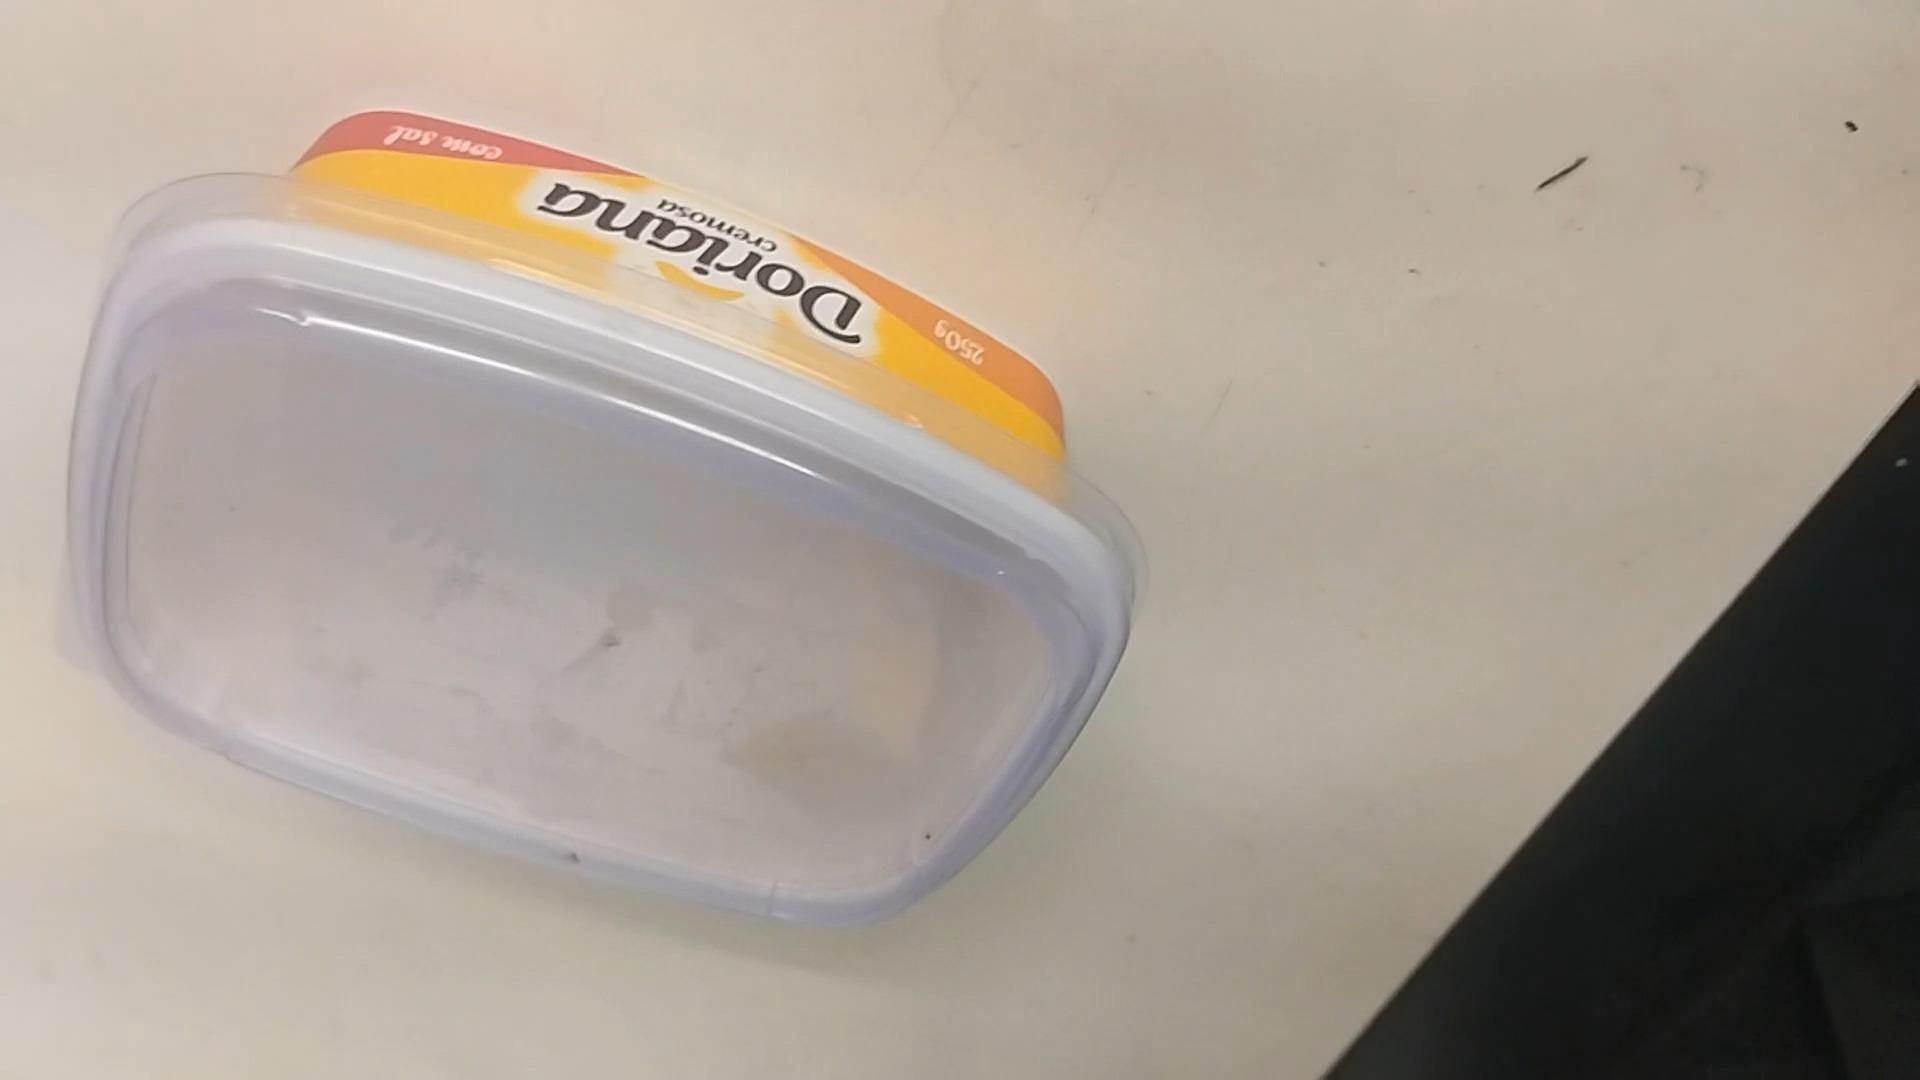butter: (59, 117, 1138, 932)
